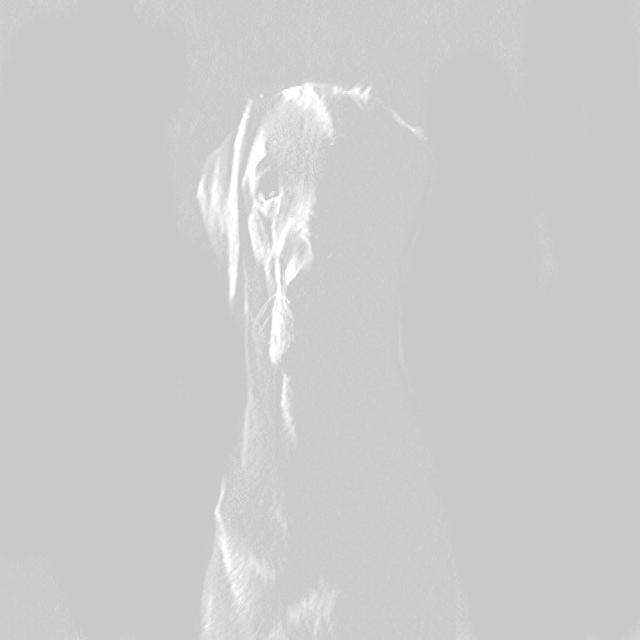Dog: (198, 104, 477, 586)
